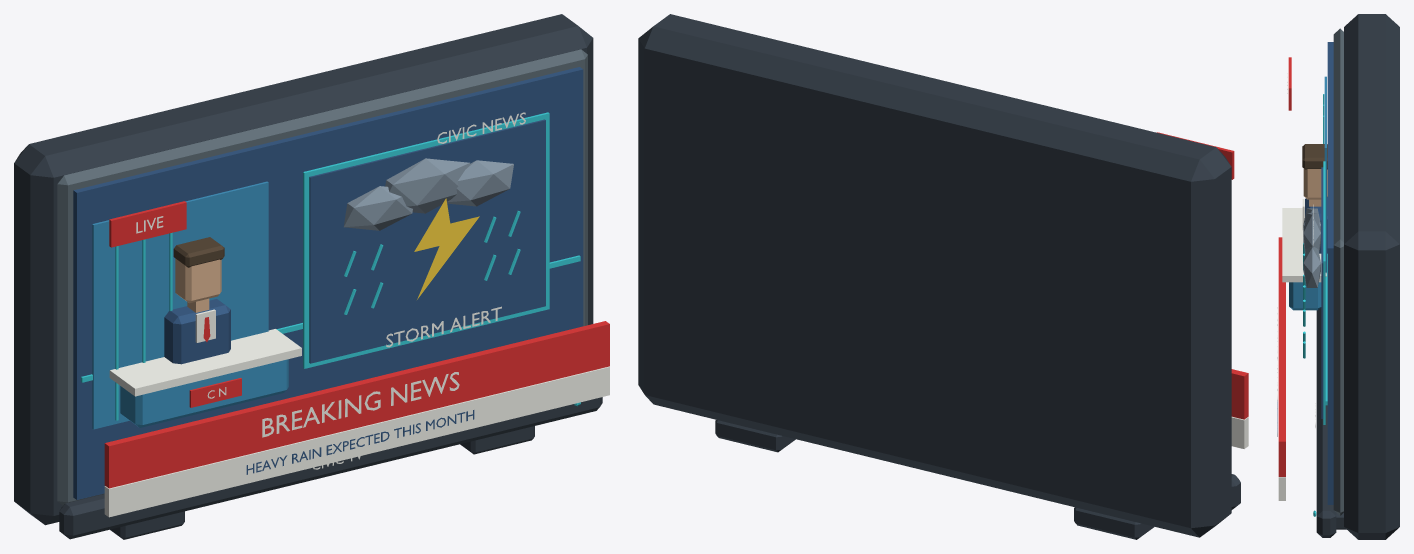
File: TV_News_Storm.fbx
The picture shows the model from 3 angles, left to right: view 1: azimuth 30°, elevation 25°; view 2: azimuth 150°, elevation 25°; view 3: azimuth 270°, elevation 25°; orthographic projection. The views are drawn at different scales.
Parts seen in each view (by area): view 1: Screen Background.013, TV Back Housing.013, Story Window.013, Breaking Lower Third.013, Studio Left Panel.013, Inner Screen Border.013, Hint Strip.013, Lower Bezel.013, Desk Top.013, Story Border.013, Desk.013, Storm Cloud.010 (+13 smaller); view 2: TV Back Housing.013, TV Foot.027, TV Foot.026, Breaking Lower Third.013; view 3: TV Back Housing.013, Inner Screen Border.013, Screen Background.013, Lower Bezel.013, Breaking Lower Third.013, Desk Top.013, Desk.013, Story Border.013, Story Window.013, Storm Cloud.011, Anchor Head.013, Anchor Hair.013 (+6 smaller).
Part boxes in pixels (x1,y1,x2,y2): Screen Background.013: [73, 67, 583, 499]; TV Back Housing.013: [14, 14, 593, 525]; Story Window.013: [309, 119, 545, 363]; Breaking Lower Third.013: [104, 321, 609, 488]; Studio Left Panel.013: [92, 181, 268, 429]; Inner Screen Border.013: [57, 49, 587, 505]; Hint Strip.013: [104, 366, 609, 517]; Lower Bezel.013: [59, 397, 602, 539]; Desk Top.013: [109, 329, 301, 396]; Story Border.013: [303, 112, 549, 368]; Desk.013: [120, 359, 288, 427]; Storm Cloud.010: [385, 158, 469, 213]; TV Back Housing.013: [638, 14, 1231, 537]; TV Foot.027: [715, 420, 795, 452]; TV Foot.026: [1074, 507, 1154, 539]; Breaking Lower Third.013: [1231, 369, 1248, 419]; TV Back Housing.013: [1344, 14, 1399, 539]; Inner Screen Border.013: [1333, 28, 1343, 515]; Screen Background.013: [1327, 42, 1333, 504]; Lower Bezel.013: [1316, 308, 1336, 537]; Breaking Lower Third.013: [1278, 237, 1285, 476]; Desk Top.013: [1282, 208, 1326, 282]; Desk.013: [1289, 282, 1321, 310]; Story Border.013: [1323, 161, 1325, 424]; Story Window.013: [1321, 167, 1323, 418]; Storm Cloud.011: [1303, 247, 1320, 287]; Anchor Head.013: [1303, 168, 1327, 199]; Anchor Hair.013: [1302, 144, 1327, 169].
Size of the model in its own units: 418 by 275 by 94.58.
